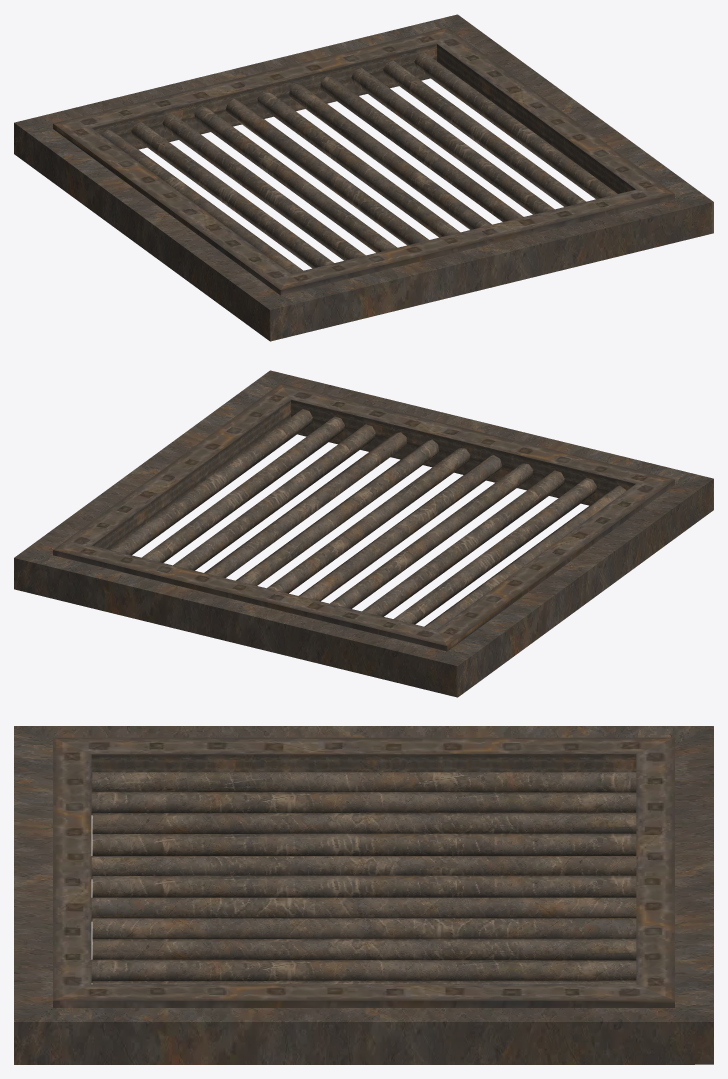
The picture shows the model from 3 angles, top to bottom: view 1: azimuth 30°, elevation 25°; view 2: azimuth 150°, elevation 25°; view 3: azimuth 270°, elevation 25°; orthographic projection. The views are drawn at different scales.
Visible parts, largest first — view 1: SM_BB_T3_Extended_Floor_Grate_Large_LOD0; view 2: SM_BB_T3_Extended_Floor_Grate_Large_LOD0; view 3: SM_BB_T3_Extended_Floor_Grate_Large_LOD0.
Part boxes in pixels (box(x1,y1,x2,y2)): SM_BB_T3_Extended_Floor_Grate_Large_LOD0: box(14, 14, 713, 341); SM_BB_T3_Extended_Floor_Grate_Large_LOD0: box(14, 370, 713, 697); SM_BB_T3_Extended_Floor_Grate_Large_LOD0: box(14, 726, 713, 1064).
Size of the model in its own units: 3.38 by 0.2539 by 3.38.
2 materials, 2 textured.
